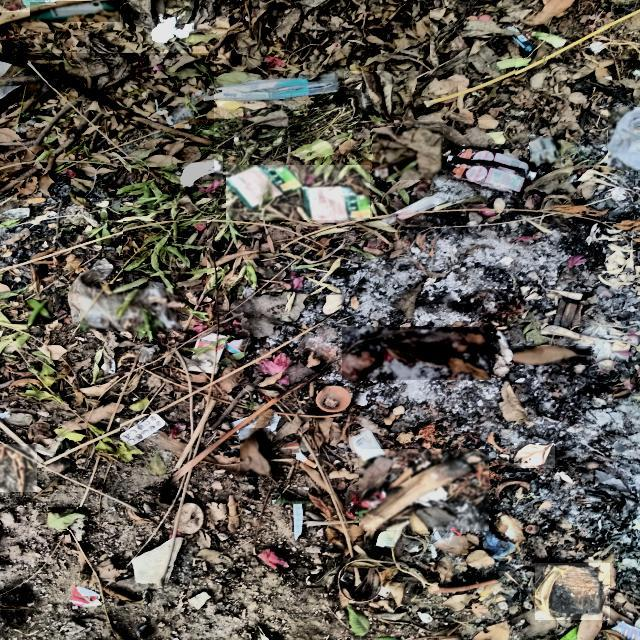anorganik: (227, 166, 369, 220), (81, 284, 180, 331), (204, 71, 343, 101), (448, 150, 531, 194), (609, 108, 638, 170), (30, 2, 119, 21), (121, 414, 166, 447), (530, 136, 561, 166), (22, 0, 56, 5)
organik: (0, 53, 214, 198), (363, 8, 515, 119), (229, 0, 430, 71), (359, 449, 489, 529), (342, 327, 491, 380), (0, 12, 146, 58), (124, 221, 207, 288), (536, 563, 610, 620), (373, 128, 443, 180), (0, 0, 115, 24), (0, 444, 37, 492), (241, 428, 271, 477), (514, 346, 590, 365), (181, 161, 223, 186), (152, 18, 193, 42), (514, 444, 554, 467), (48, 507, 86, 530), (28, 300, 53, 324)
